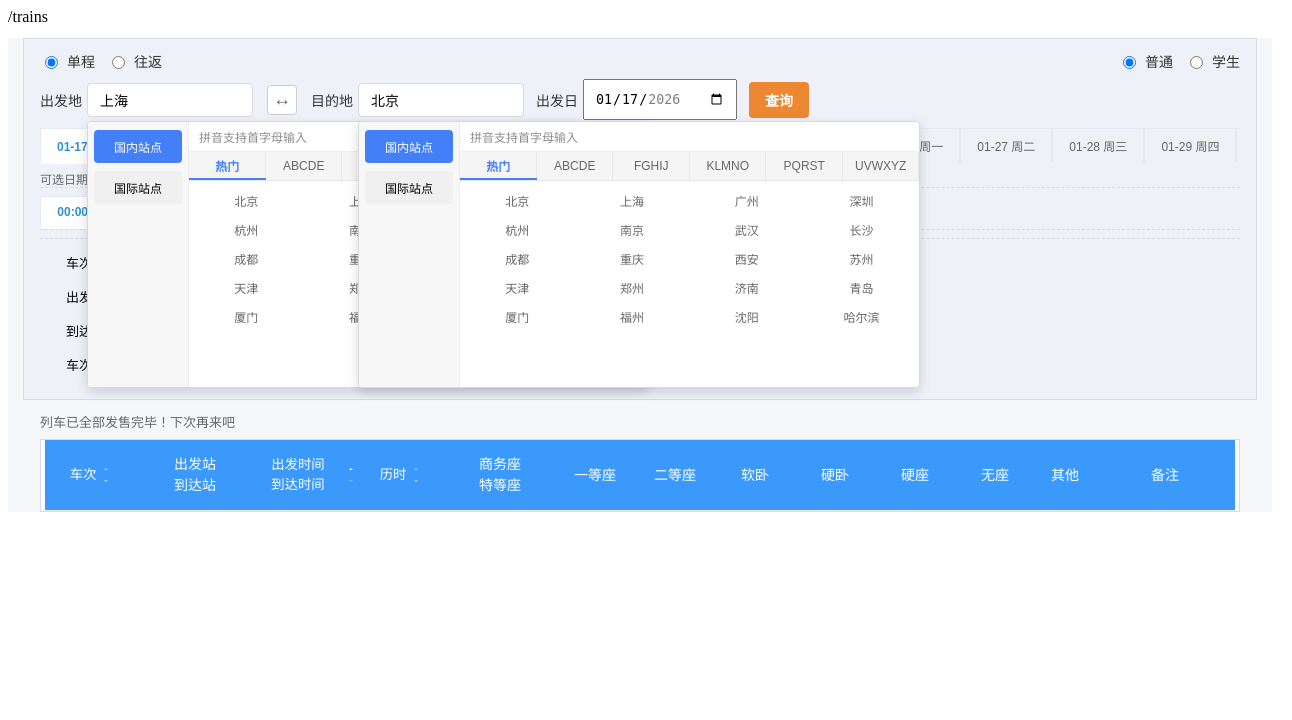
Test: Given 缺少出发地 When 点击查询 Then 不弹出车票、不报错、不刷新URL
The image size is (1292, 720).
Click the button "查询": (779, 100) [749,82,809,118]
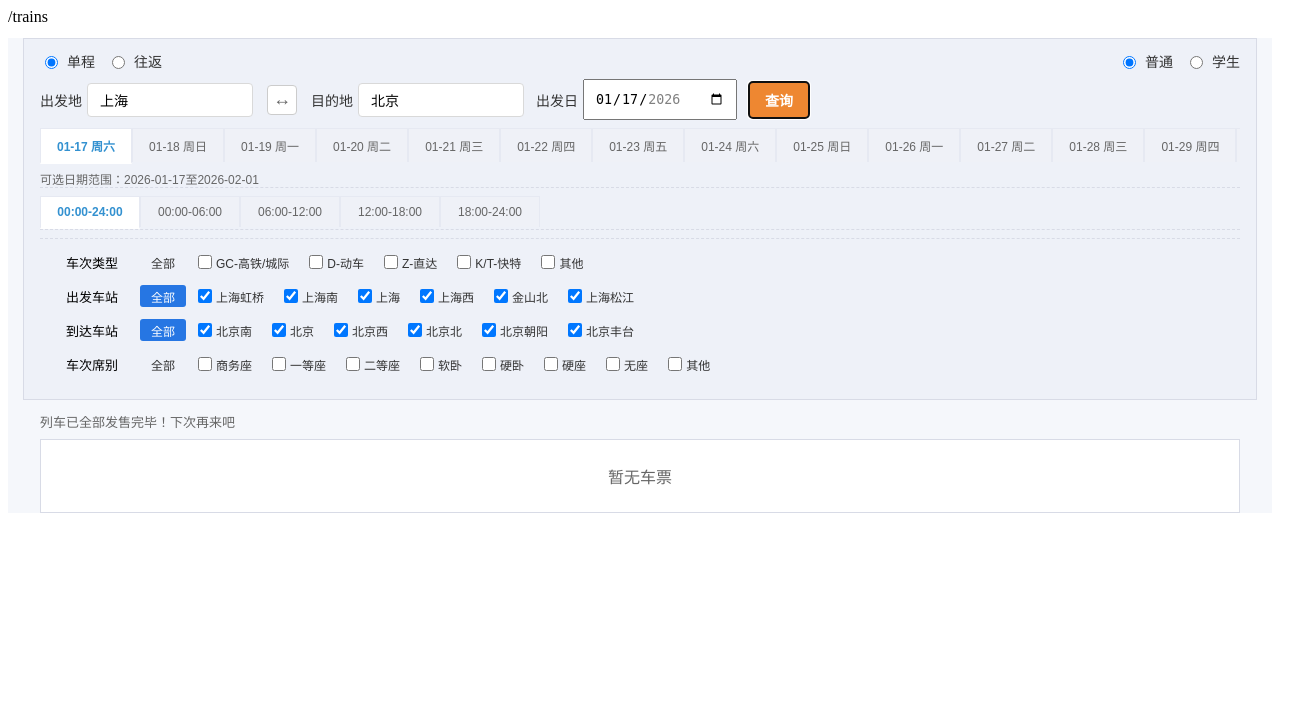
Expected: the text with test id "location" reads "/trains", [8,8,48,25]
Result: the text "暂无车票" is shown at [608,469,672,486]
